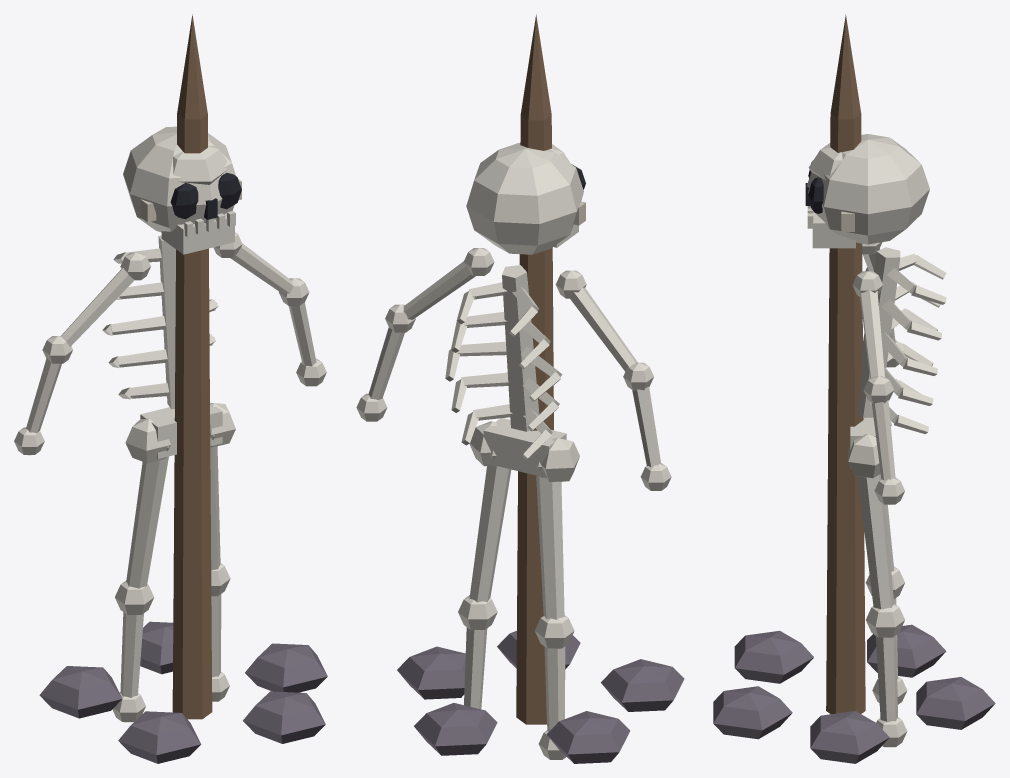
Rendered from skel_impaled.glb.
3 renders of one model, left to right at view 1: azimuth 30°, elevation 25°; view 2: azimuth 150°, elevation 25°; view 3: azimuth 270°, elevation 25°, orthographic.
Visible parts, largest first — view 1: skel_impaled; view 2: skel_impaled; view 3: skel_impaled.
Part boxes in pixels (left/top/right/bottom): skel_impaled: left=14, top=14, right=327, bottom=763; skel_impaled: left=356, top=14, right=684, bottom=763; skel_impaled: left=713, top=14, right=995, bottom=763.
Bounding box in the file's own units: 1.6 × 3.58 × 1.29.
